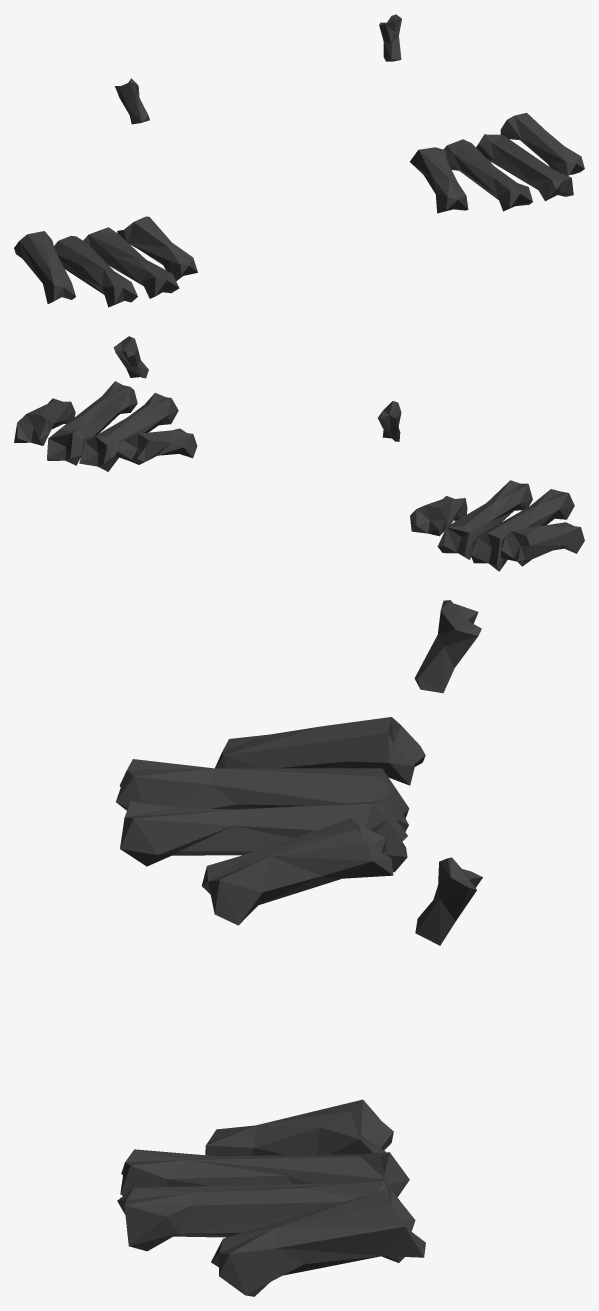
3 renders of one model, top to bottom at view 1: azimuth 30°, elevation 25°; view 2: azimuth 150°, elevation 25°; view 3: azimuth 270°, elevation 25°, orthographic. The views are drawn at different scales.
Parts seen in each view (by area): view 1: FL_P1; view 2: FL_P1; view 3: FL_P1.
Part boxes in pixels (bbox=[...]): FL_P1: bbox=[14, 14, 584, 307]; FL_P1: bbox=[14, 336, 584, 571]; FL_P1: bbox=[116, 600, 482, 1296].
Bounding box in the file's own units: 0.00459 × 0.00131 × 0.00137.
Materials: 1 (1 with a texture image).
